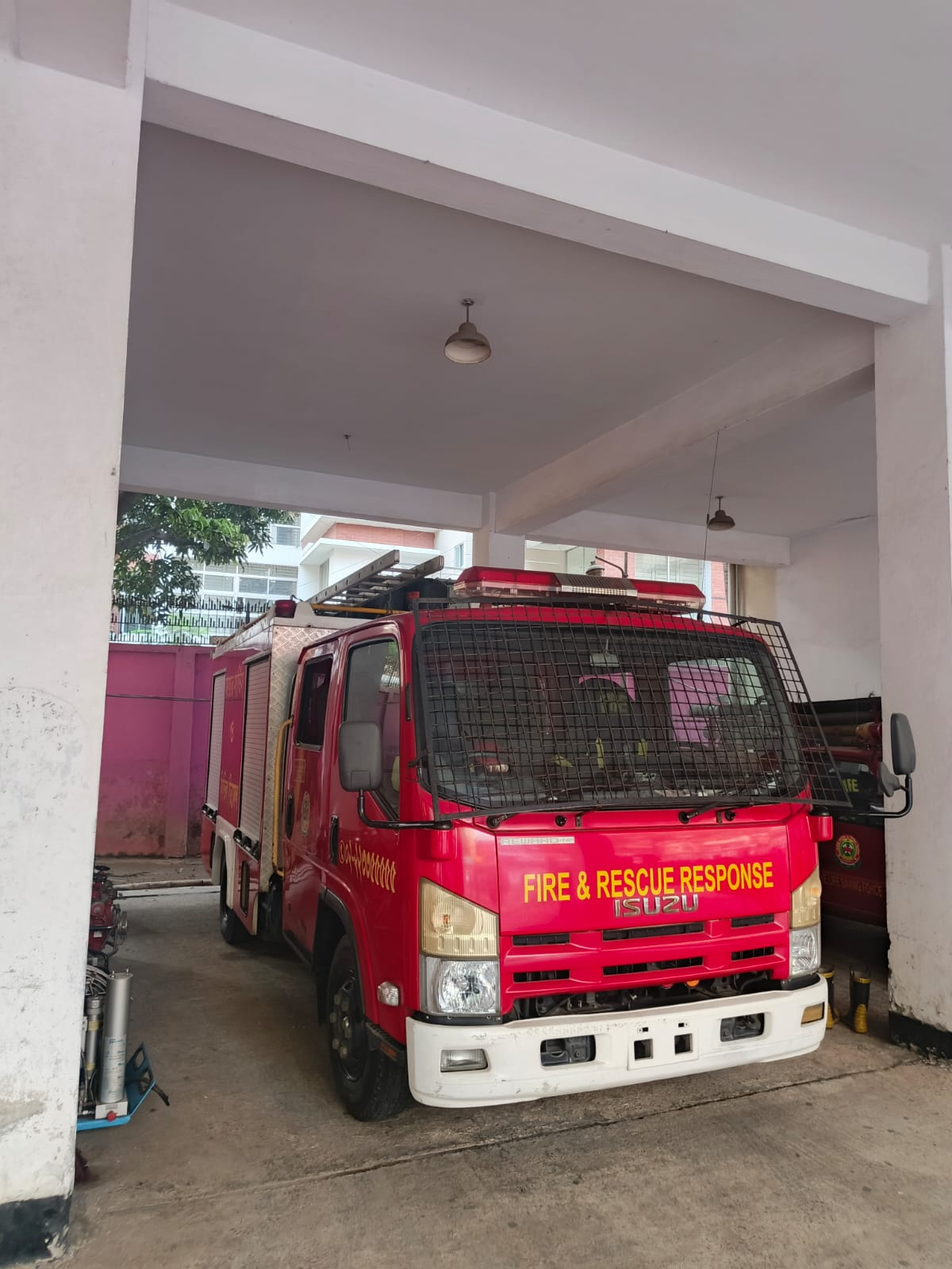Fire truck: (159, 505, 931, 1217)
